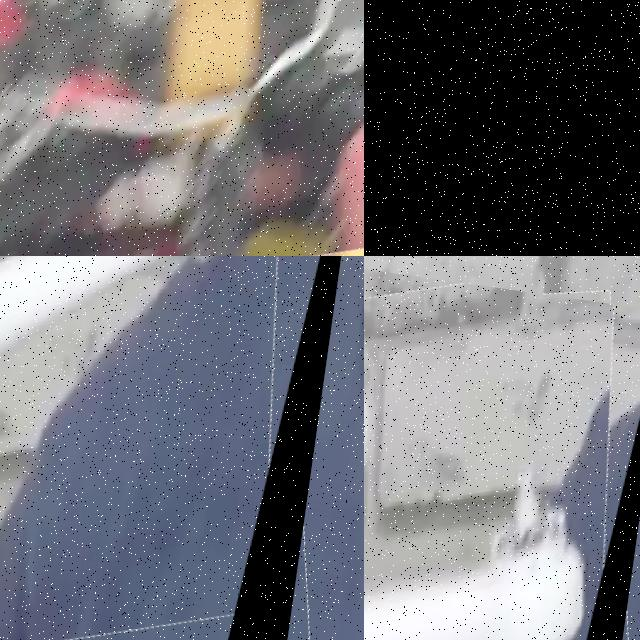drone: (0, 256, 364, 640), (364, 264, 640, 640), (0, 0, 364, 256)
